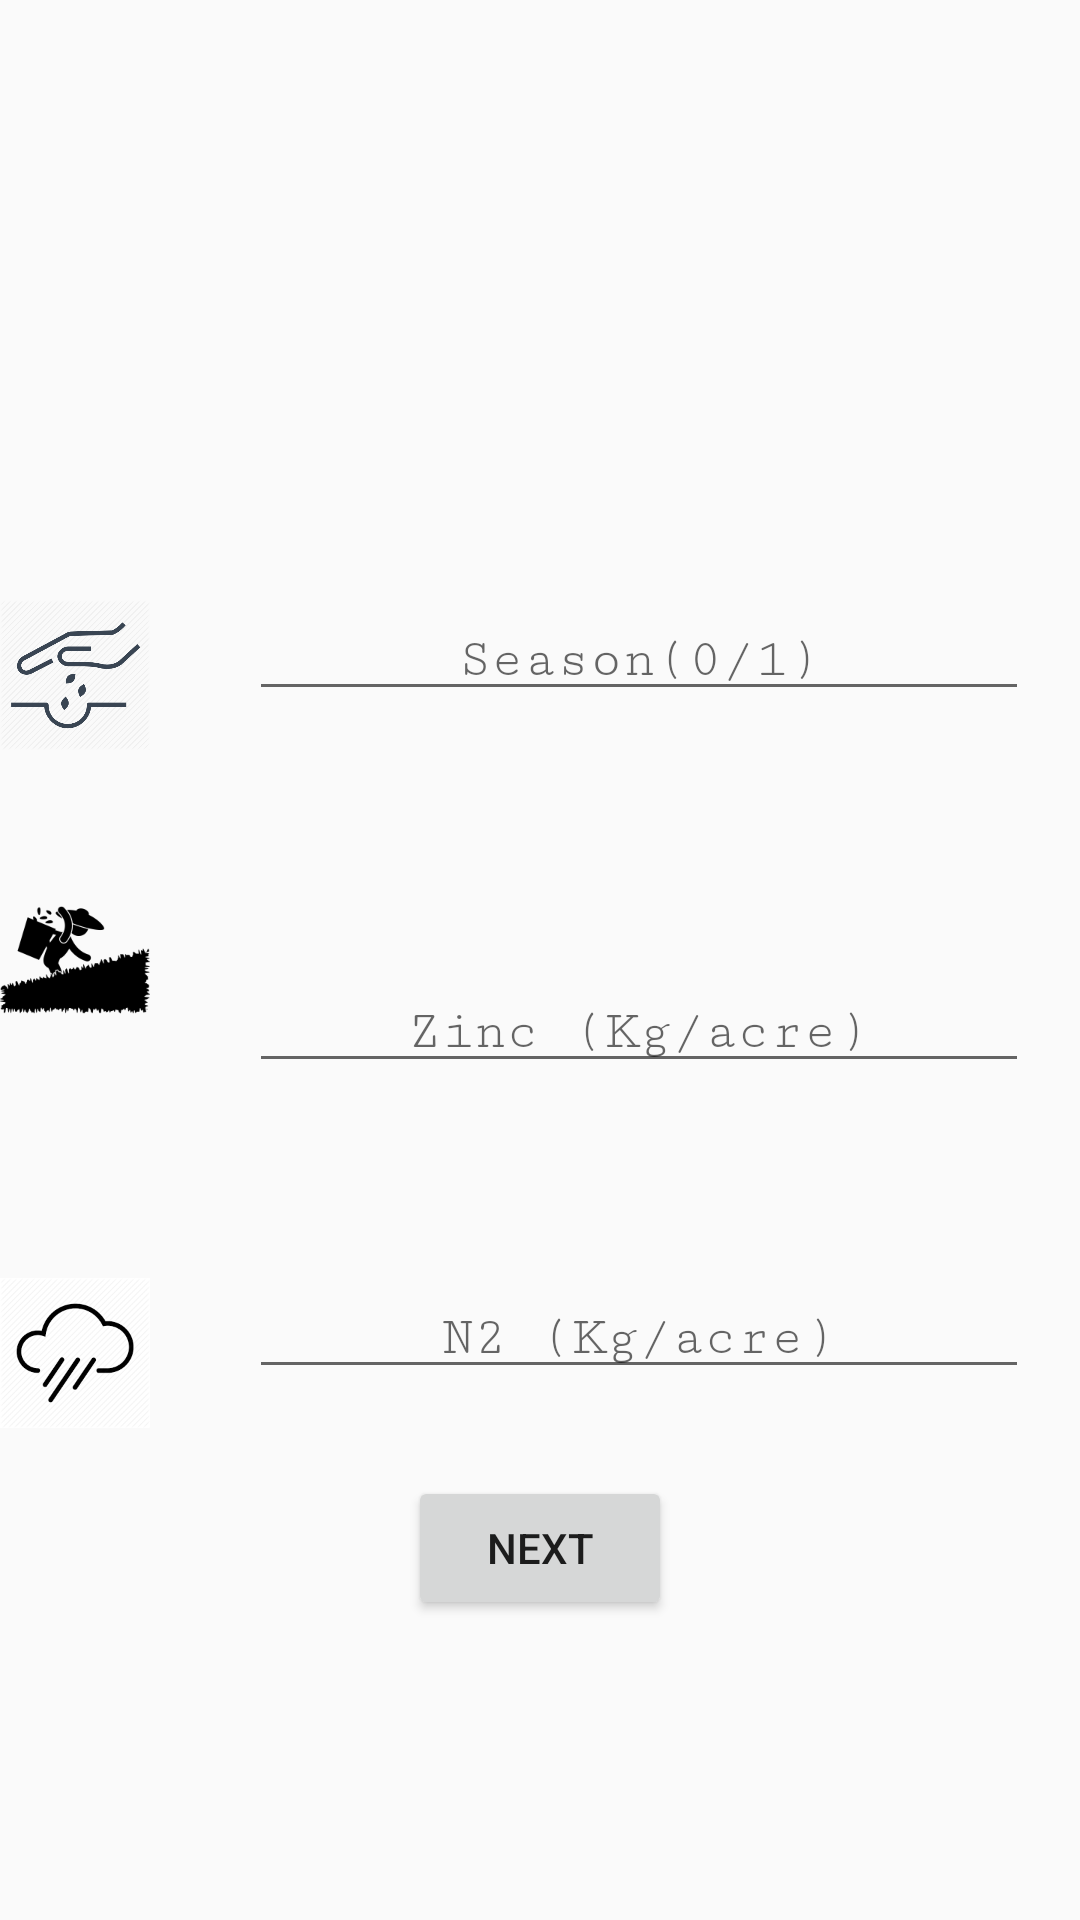

Point at icon controls on the screen. Image size 1080w x 1920h, points as point (x, y).
rain: point (75, 1353)
